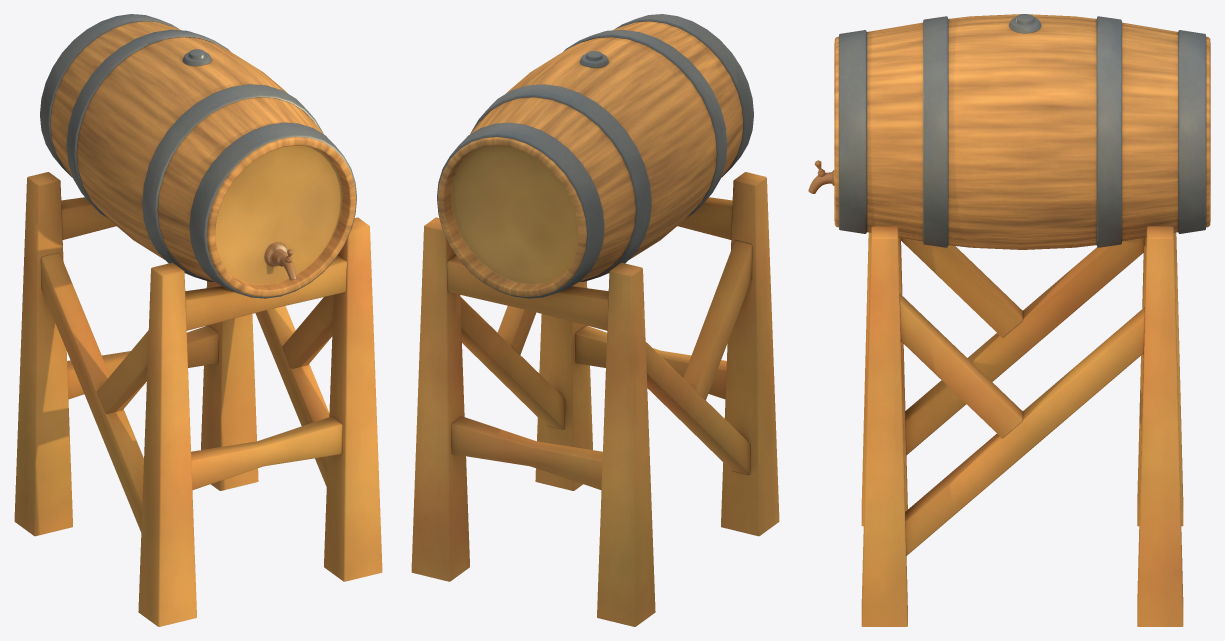
Rendered from Barrel.glb.
3 renders of one model, left to right at view 1: azimuth 30°, elevation 25°; view 2: azimuth 150°, elevation 25°; view 3: azimuth 270°, elevation 25°, orthographic. The views are drawn at different scales.
Parts seen in each view (by area): view 1: Cube.081; view 2: Cube.081; view 3: Cube.081.
Boxes of the visible parts, left/top/right/bottom form: Cube.081: left=14, top=14, right=382, bottom=626; Cube.081: left=411, top=14, right=779, bottom=626; Cube.081: left=808, top=14, right=1210, bottom=626.
Bounding box in the file's own units: 0.9387 × 1.97 × 1.31.
1 material, 1 textured.
